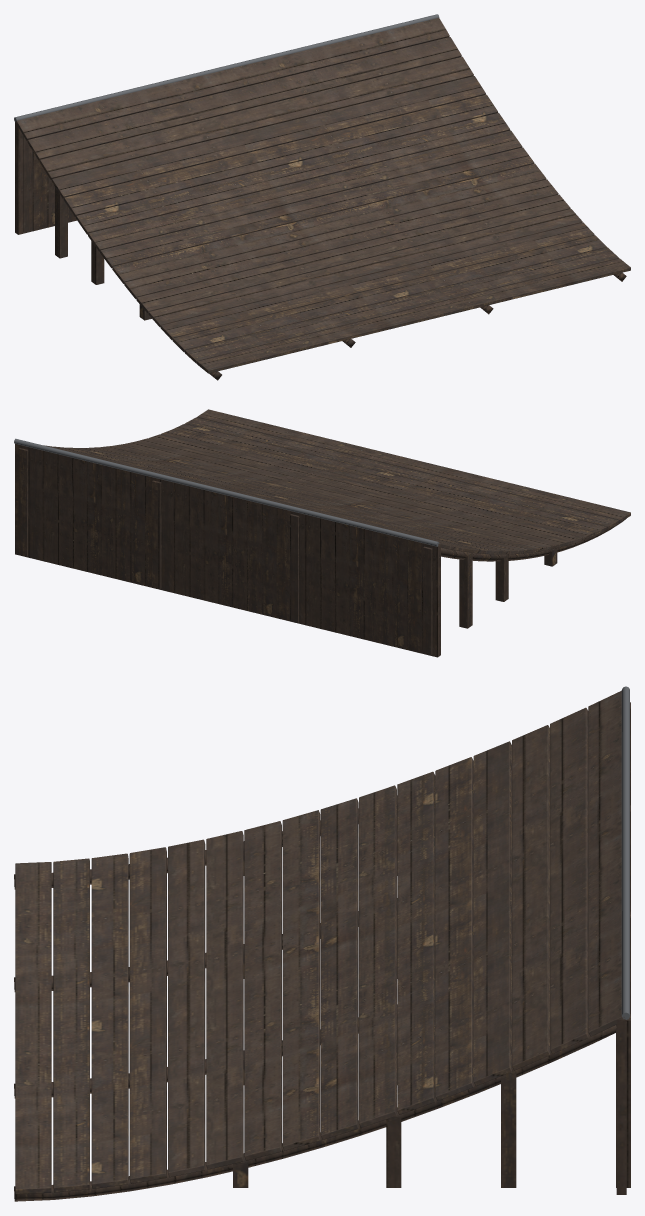
The model's file is ramp.glb.
3 renders of one model, top to bottom at view 1: azimuth 30°, elevation 25°; view 2: azimuth 150°, elevation 25°; view 3: azimuth 270°, elevation 25°, orthographic. The views are drawn at different scales.
Parts seen in each view (by area): view 1: ramp; view 2: ramp; view 3: ramp.
Part boxes in pixels (x1=…): ramp: x1=14, y1=14, x2=630, y2=380; ramp: x1=14, y1=409, x2=630, y2=657; ramp: x1=14, y1=686, x2=630, y2=1201.
Size of the model in its own units: 4.6 by 1.29 by 3.68.
Materials: 1 (1 with a texture image).
